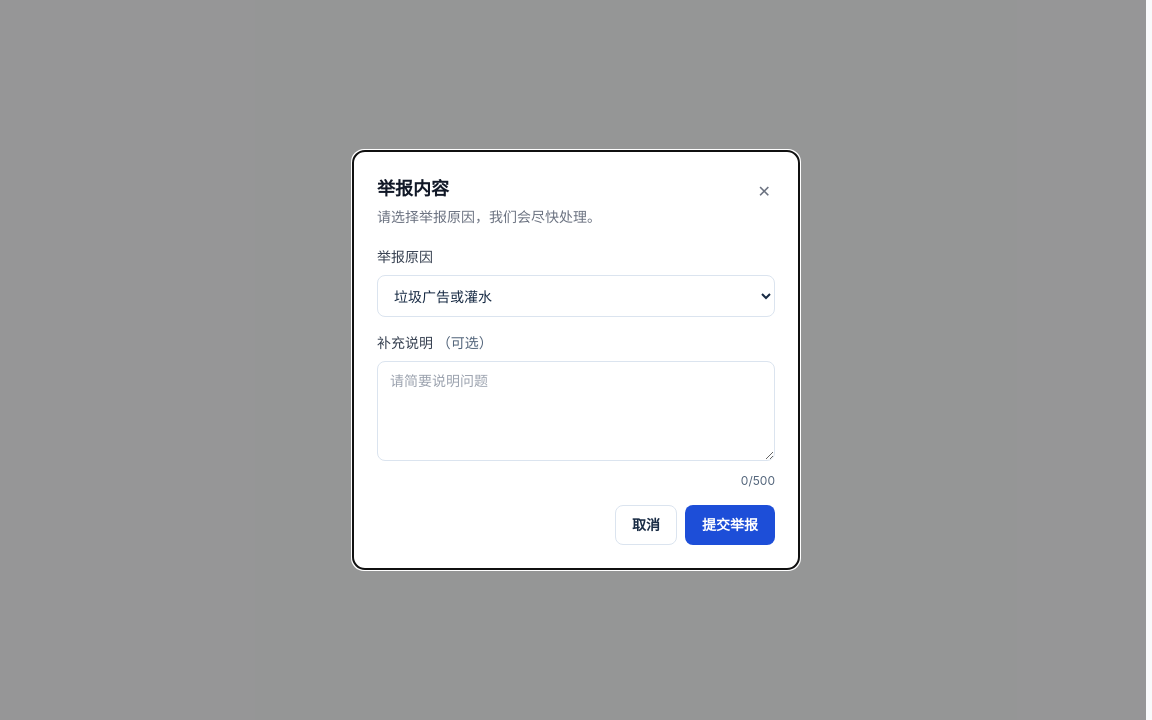
Test: report UX › shows a permission message for a message-less 403 without logging out
The width and height of the screenshot is (1152, 720).
Step 1. Click the submit button → click(730, 525), box [685,505,775,545]
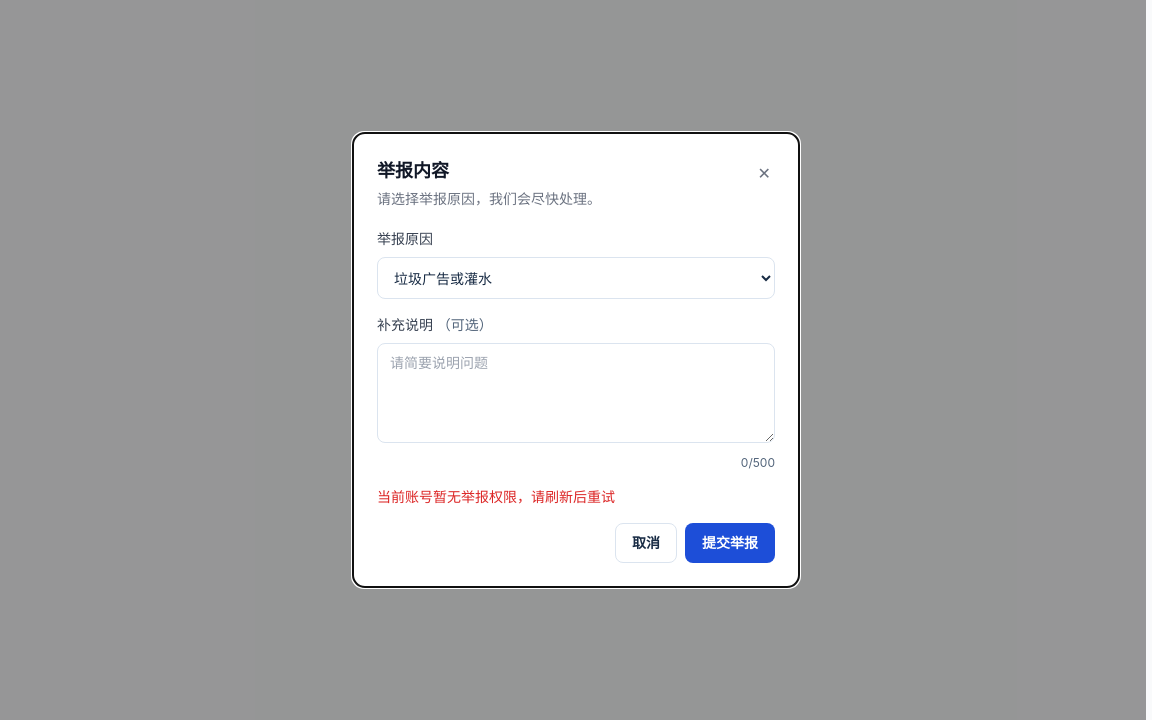
Expected: the submit button is enabled, [685,523,775,563]
Now the dialog shows "举报权限", box [377,488,615,505]
